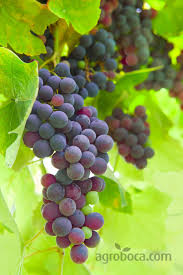Black grapes: (21, 63, 115, 262), (104, 103, 162, 173)
